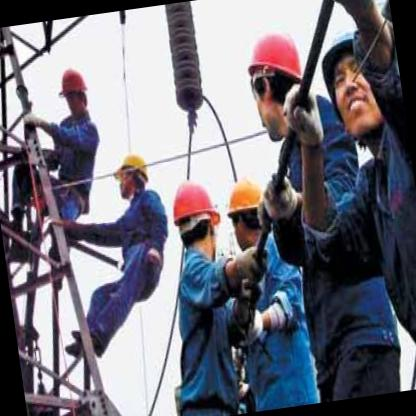helmet: (315, 17, 403, 146), (236, 19, 313, 136), (168, 174, 228, 266), (219, 167, 275, 252), (55, 64, 94, 123), (113, 147, 156, 199)
